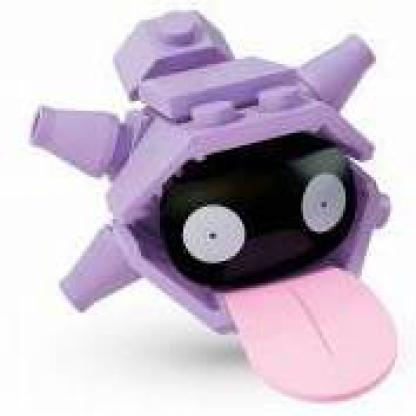Shellder: (40, 8, 415, 394)
